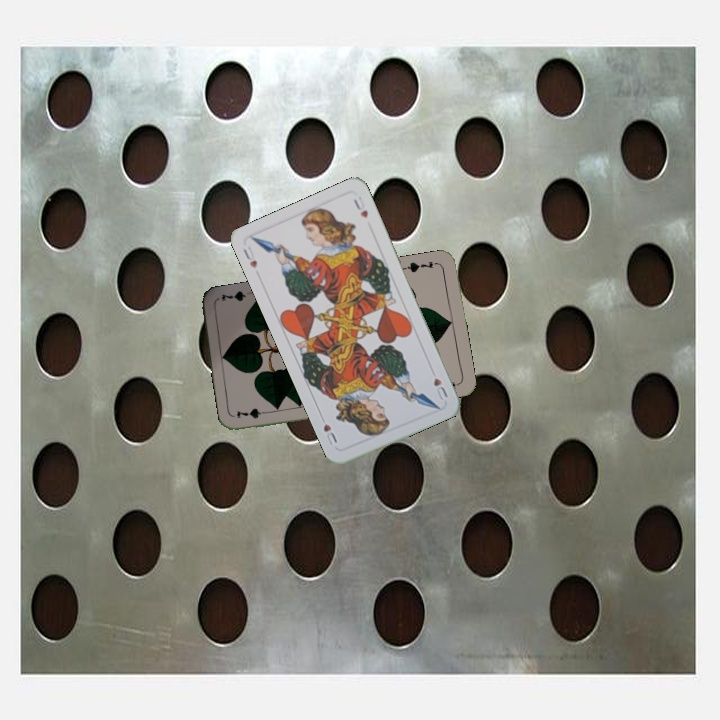G7: (400, 257, 440, 275), (233, 405, 274, 421)
HU: (429, 374, 450, 403), (239, 242, 260, 271)
